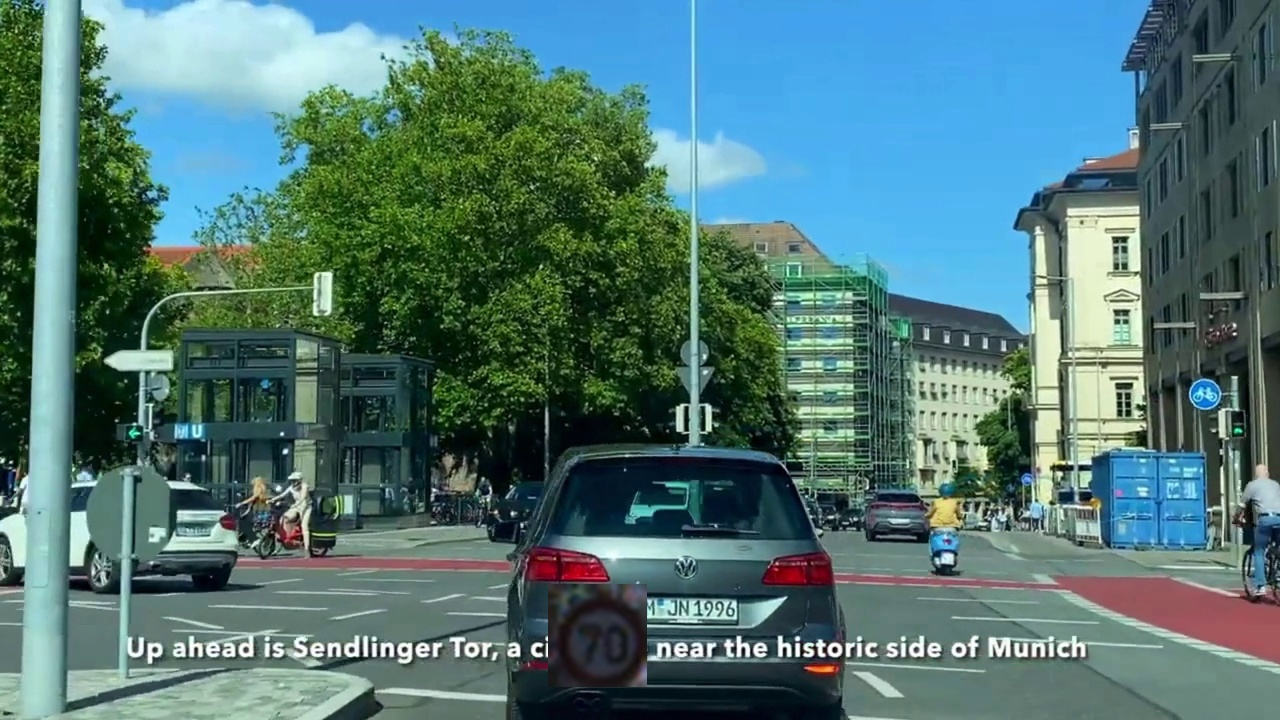Speed 70: (548, 584, 647, 687)
